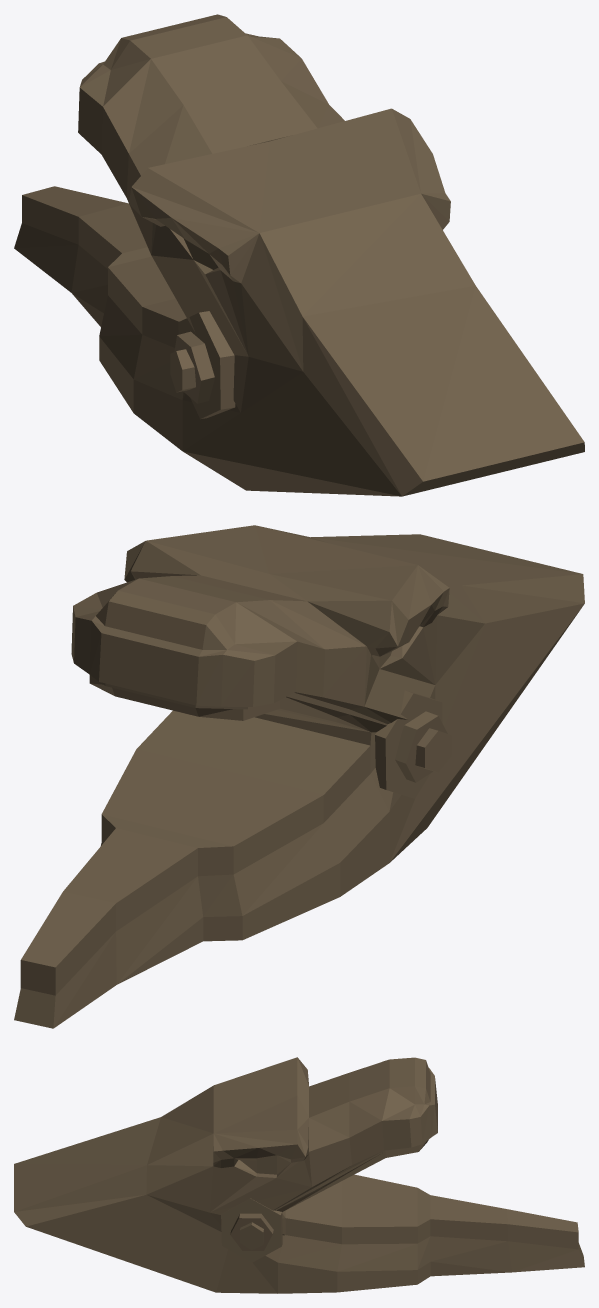
Rendered from ADDON_MAYA_SNAKE_01.OBJ.
The picture shows the model from 3 angles, top to bottom: view 1: azimuth 30°, elevation 25°; view 2: azimuth 150°, elevation 25°; view 3: azimuth 270°, elevation 25°; orthographic projection. The views are drawn at different scales.
Visible parts, largest first — view 1: ADDON_MAYA_SNAKE_01; view 2: ADDON_MAYA_SNAKE_01; view 3: ADDON_MAYA_SNAKE_01.
Part boxes in pixels (box(x1,y1,x2,y2)): ADDON_MAYA_SNAKE_01: box(14, 14, 584, 496); ADDON_MAYA_SNAKE_01: box(14, 525, 584, 1028); ADDON_MAYA_SNAKE_01: box(14, 1057, 584, 1293).
Bounding box in the file's own units: 1.36 × 1.48 × 3.94.
